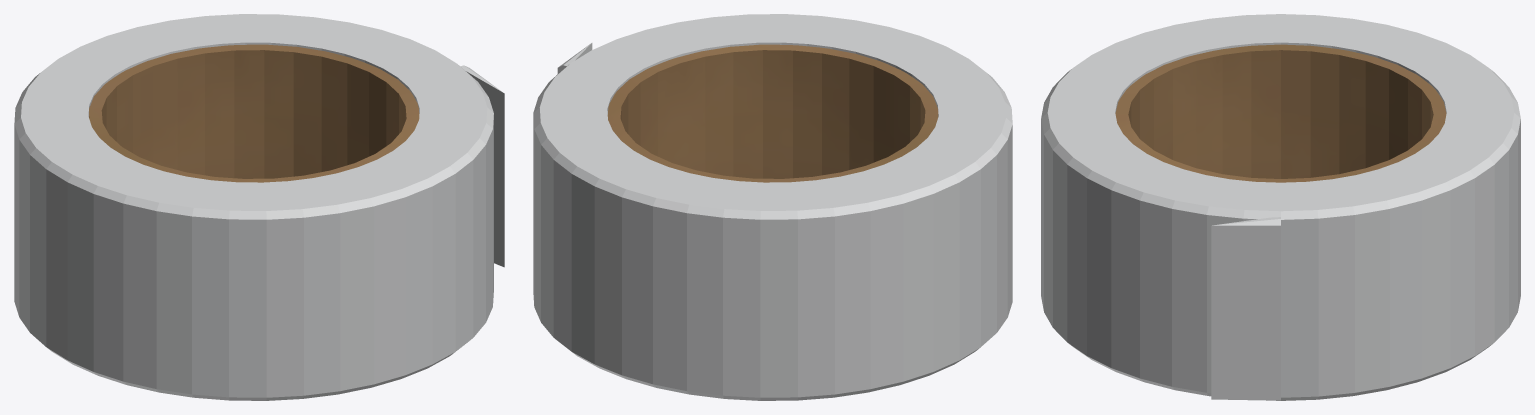
Rendered from fita_adesiva.glb.
3 renders of one model, left to right at view 1: azimuth 30°, elevation 25°; view 2: azimuth 150°, elevation 25°; view 3: azimuth 270°, elevation 25°, orthographic.
Parts seen in each view (by area): view 1: fita_adesiva_fita_prata, fita_adesiva_papelao; view 2: fita_adesiva_fita_prata, fita_adesiva_papelao; view 3: fita_adesiva_fita_prata, fita_adesiva_papelao.
Part boxes in pixels (x1,y1,x2,y2): fita_adesiva_fita_prata: (14,14,504,400); fita_adesiva_papelao: (89,44,419,182); fita_adesiva_fita_prata: (533,14,1012,400); fita_adesiva_papelao: (607,44,938,182); fita_adesiva_fita_prata: (1041,14,1520,400); fita_adesiva_papelao: (1115,44,1446,182).
Size of the model in its own units: 0.112 by 0.048 by 0.11.
2 materials, 1 textured.
